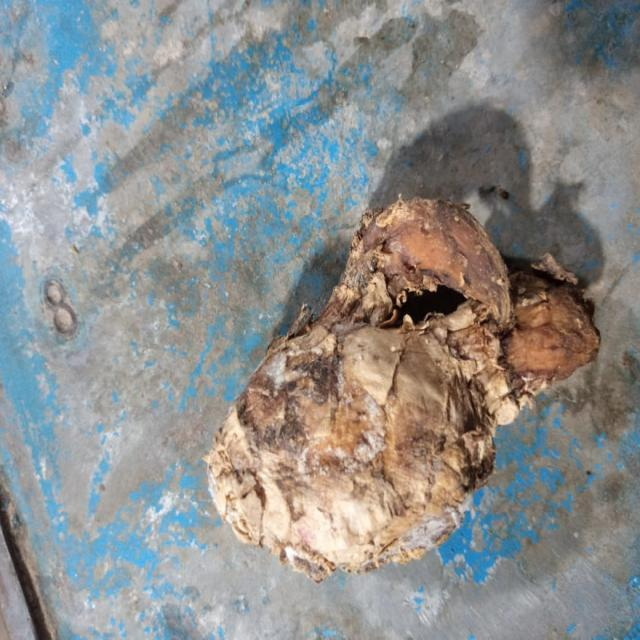ginger: (210, 205, 597, 563)
